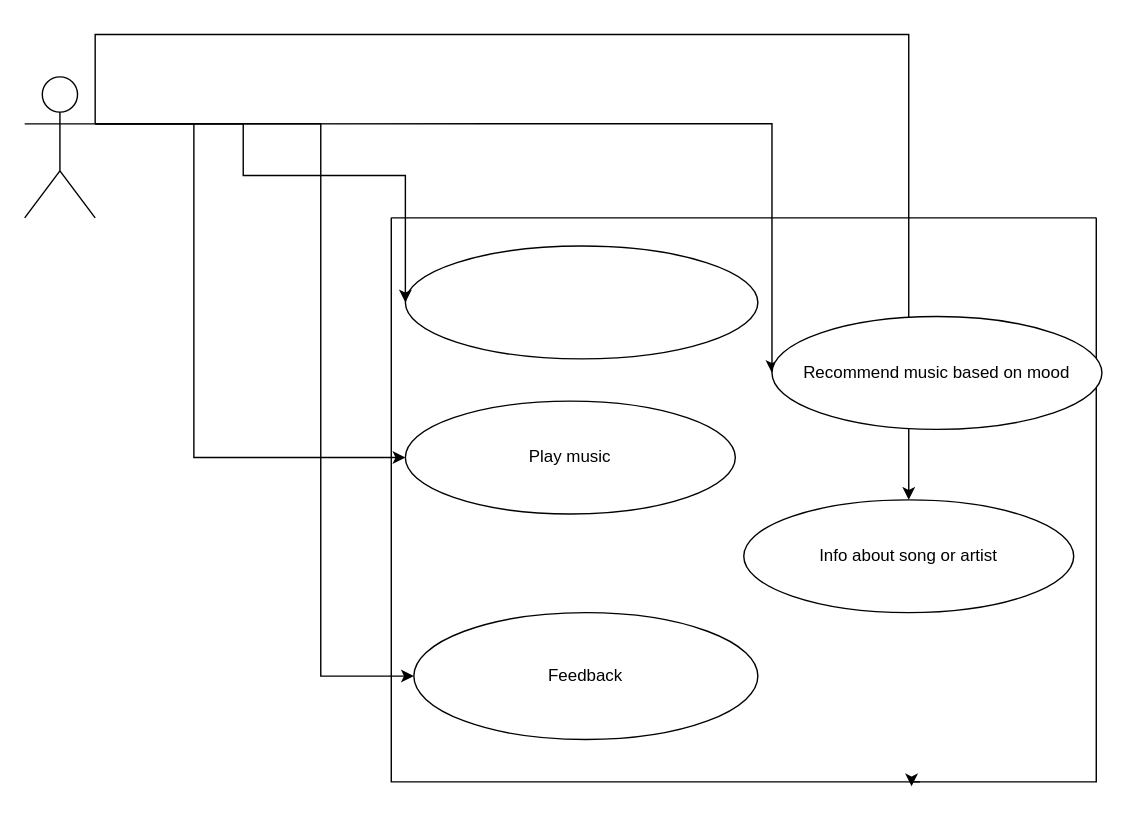
Image size: 1127x823. Some labels were removed from this diagram. The centre of each missing label's shape, as x and y in pixels:
Actor: point (59, 146)
Identify the mood of the user: point (581, 302)
